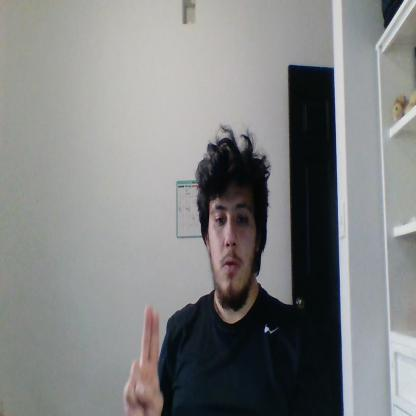U: (122, 302, 164, 415)
